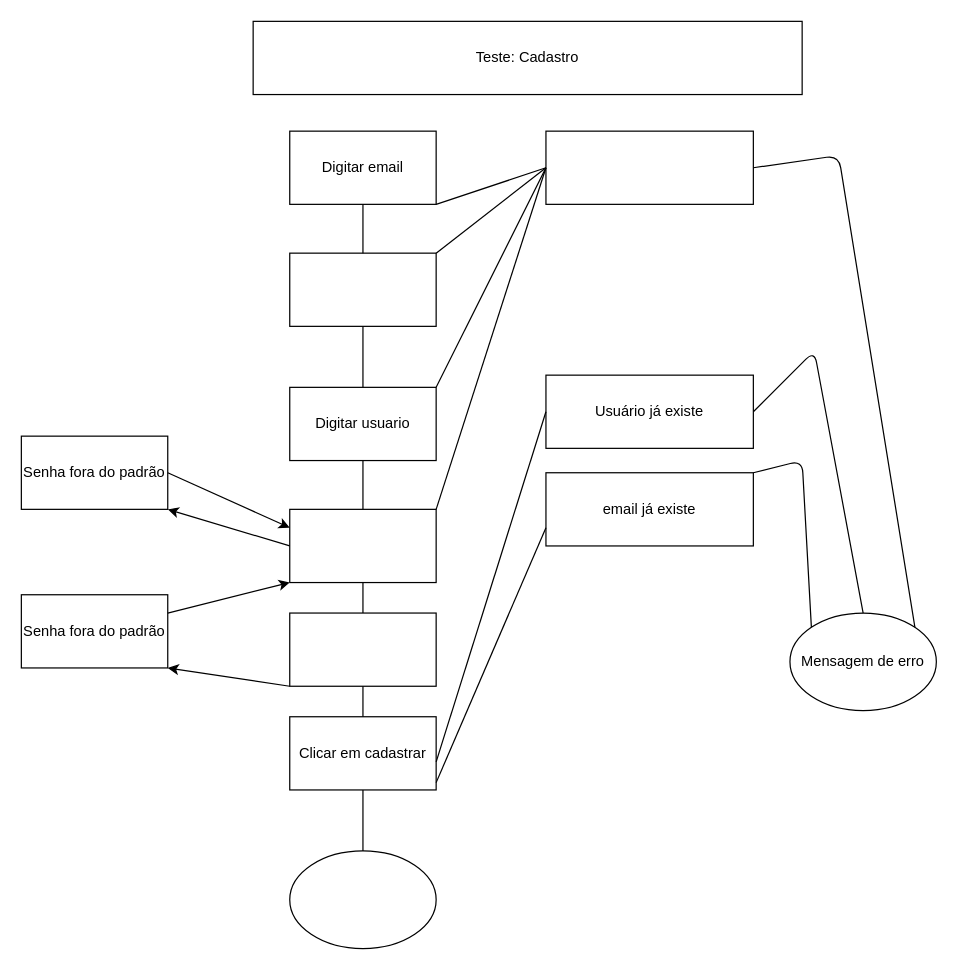
Some shapes in this 958 by 970 pixel diagram are drawn without their labels. Each missing label, with the centre of its shape:
Confirma Senha: the point at 362,649
Digitar nome completo: the point at 362,289
Digitar senha: the point at 362,545
Não digitar campo obrigatorio: the point at 649,167
Redirecionar para tela de login: the point at 362,899
